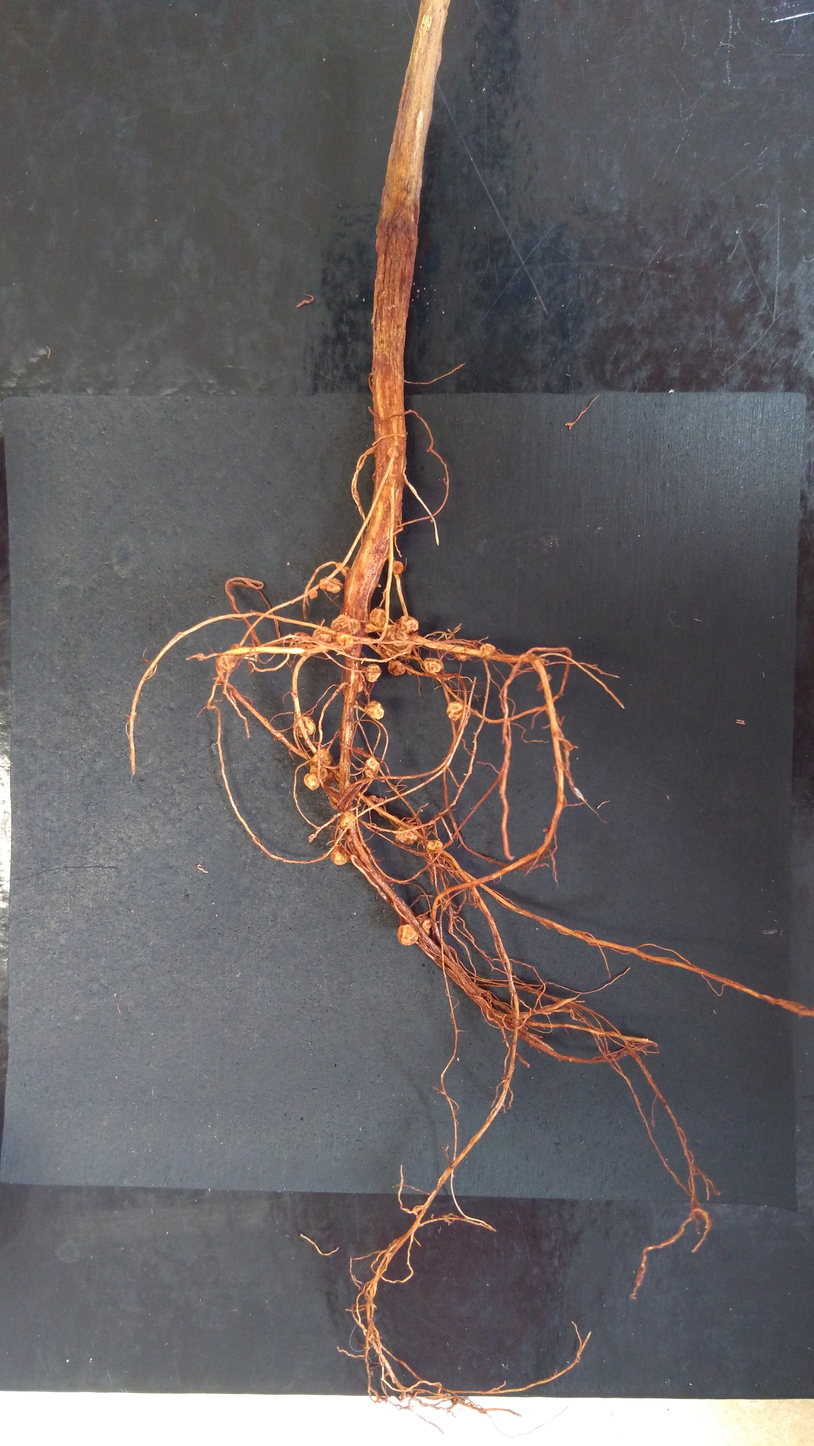nodule: (330, 614, 361, 635), (394, 822, 419, 845), (294, 713, 315, 737), (294, 632, 313, 657), (397, 924, 419, 945), (369, 607, 389, 628), (387, 627, 409, 646), (311, 627, 336, 643), (364, 701, 385, 720), (330, 845, 349, 865), (320, 576, 342, 593), (454, 643, 473, 662), (311, 749, 331, 767), (216, 655, 237, 672), (415, 914, 431, 936), (446, 701, 463, 721), (336, 632, 353, 652), (364, 757, 380, 777), (400, 616, 418, 633), (425, 657, 444, 673), (365, 664, 381, 682), (310, 765, 328, 781), (303, 773, 319, 790), (340, 811, 356, 828), (381, 644, 398, 660), (352, 670, 364, 692), (388, 661, 405, 676), (365, 795, 387, 806), (480, 643, 496, 658), (394, 643, 412, 655), (324, 767, 334, 787), (426, 840, 443, 851), (396, 628, 410, 641), (392, 561, 404, 575), (387, 446, 399, 459), (337, 563, 349, 576), (404, 664, 414, 675), (231, 643, 242, 650), (309, 590, 317, 599), (345, 834, 352, 842)
